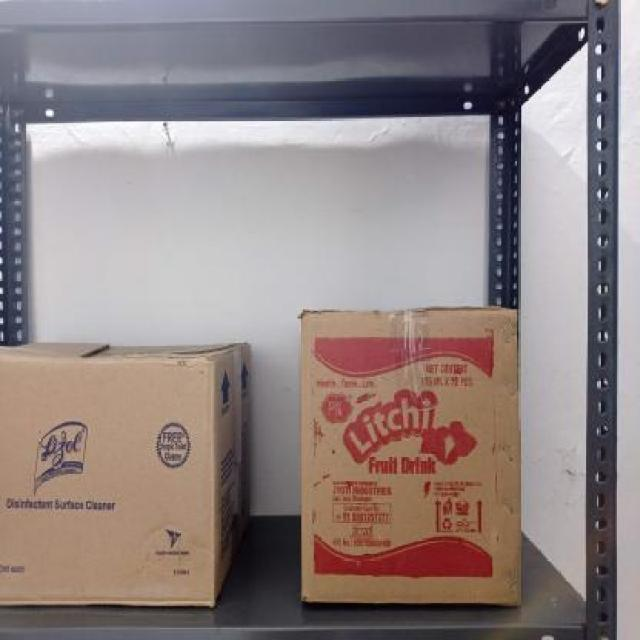box: (298, 309, 522, 611), (0, 357, 220, 603)
